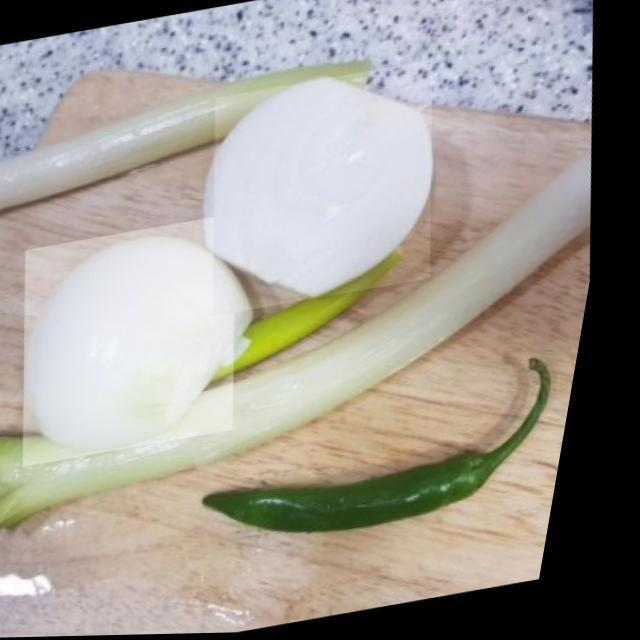Onion: (190, 62, 470, 318), (4, 214, 278, 468)
